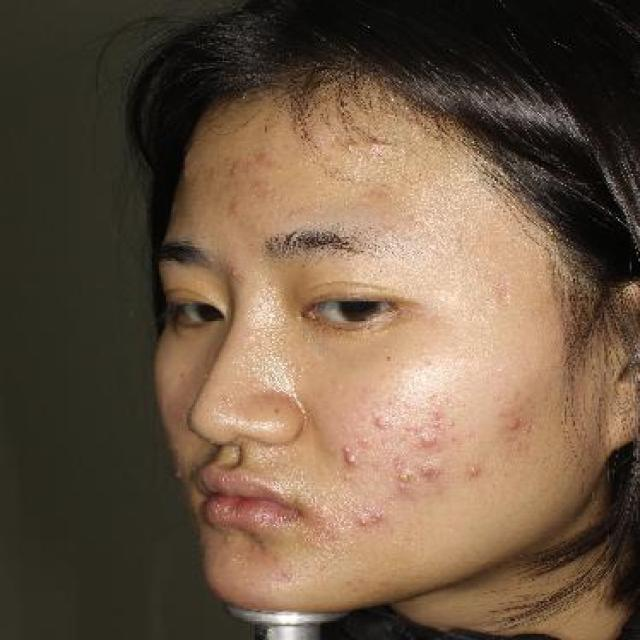papules: (414, 420, 445, 457), (347, 503, 373, 539), (334, 444, 369, 470), (366, 406, 395, 434), (462, 458, 486, 488), (226, 157, 248, 178)
pustules: (388, 465, 421, 492)
